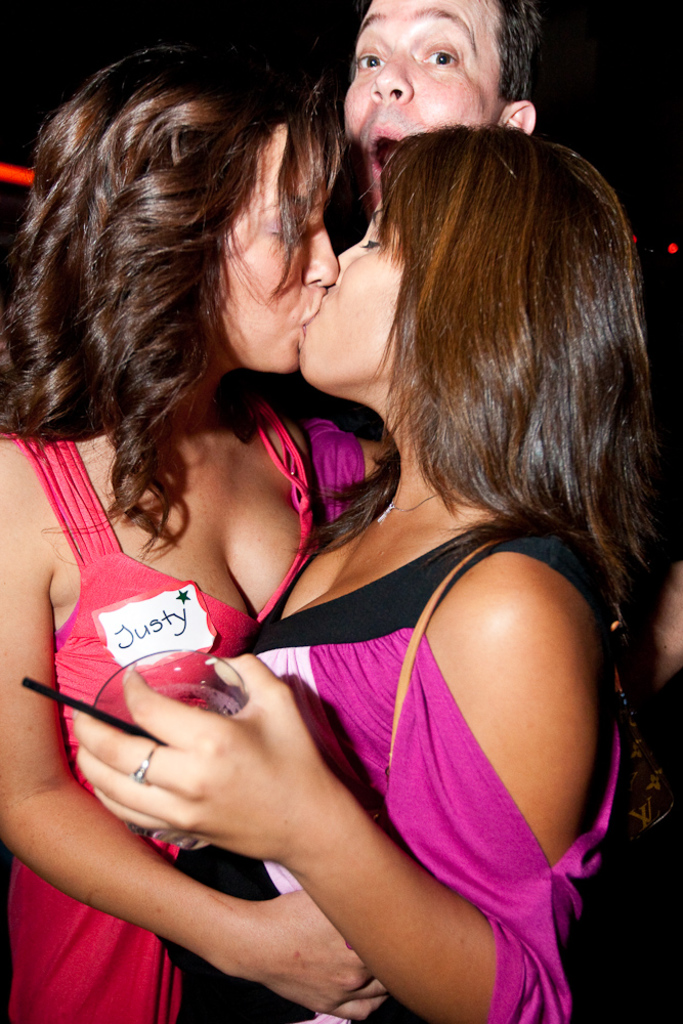Person: (342, 0, 683, 696)
